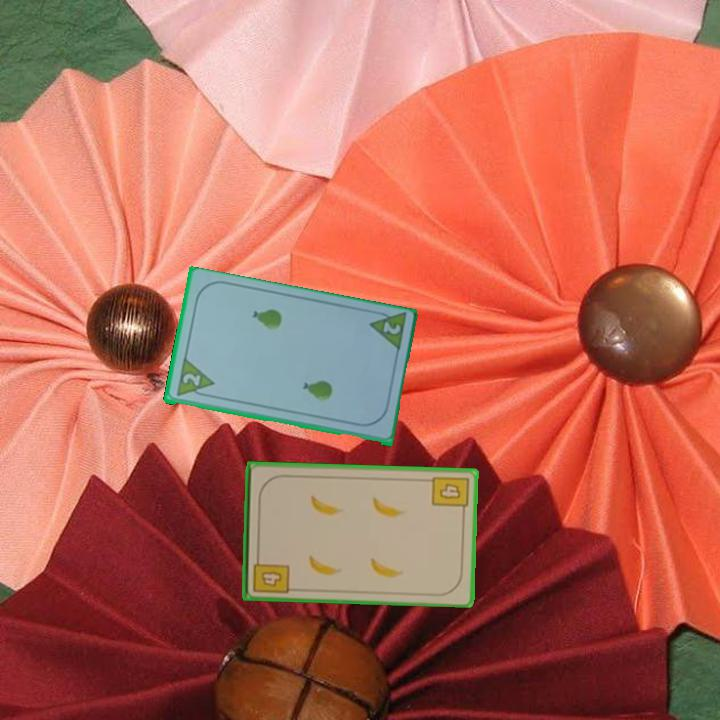2p: (365, 307, 409, 356), (179, 370, 203, 390)
4b: (249, 551, 291, 597), (428, 473, 471, 516)
